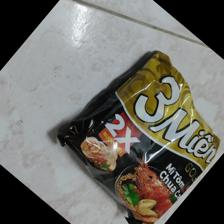3mien: (56, 50, 222, 224)
